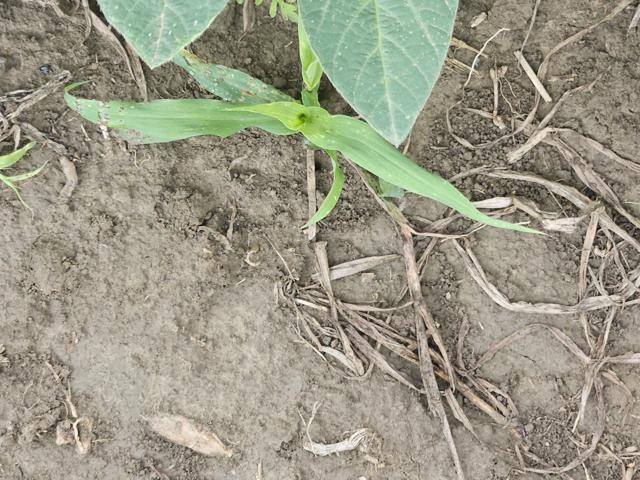bad weed: (48, 50, 539, 260), (0, 140, 39, 215)
